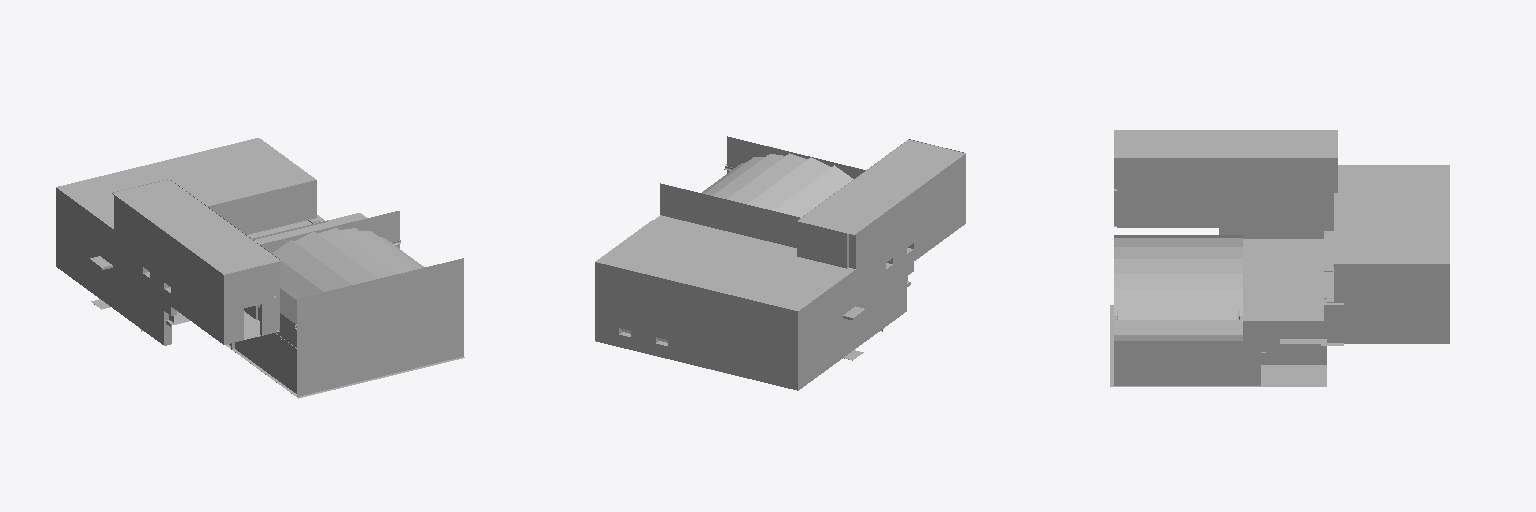
File: LC_cont1_079.obj
3 views of the same model, side by side, from view 1: azimuth 30°, elevation 25°; view 2: azimuth 150°, elevation 25°; view 3: azimuth 270°, elevation 25° (orthographic).
Visible parts, largest first — view 1: LC_cont1_079; view 2: LC_cont1_079; view 3: LC_cont1_079.
Part boxes in pixels (bbox=[...]): LC_cont1_079: bbox=[56, 138, 464, 398]; LC_cont1_079: bbox=[595, 136, 965, 390]; LC_cont1_079: bbox=[1110, 130, 1449, 386].
Bounding box in the file's own units: 26.56 × 14.13 × 31.04.